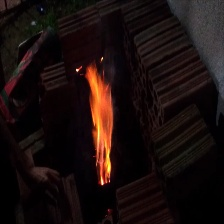fire: (78, 58, 121, 185)
